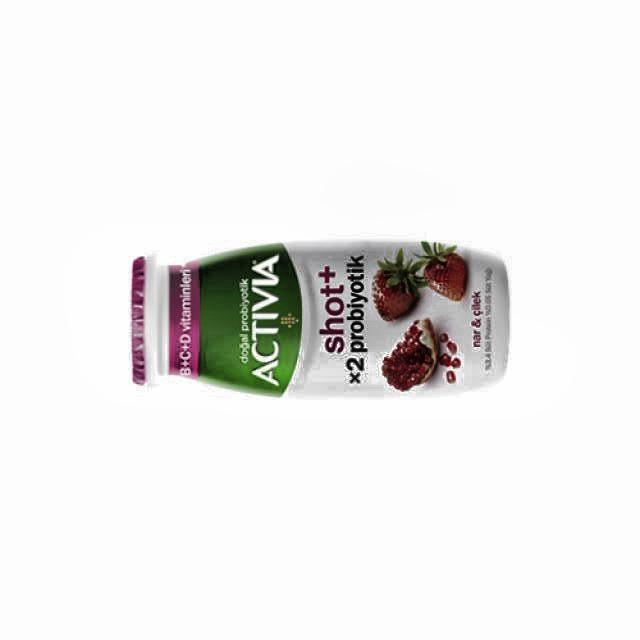plastic: (131, 241, 509, 394)
